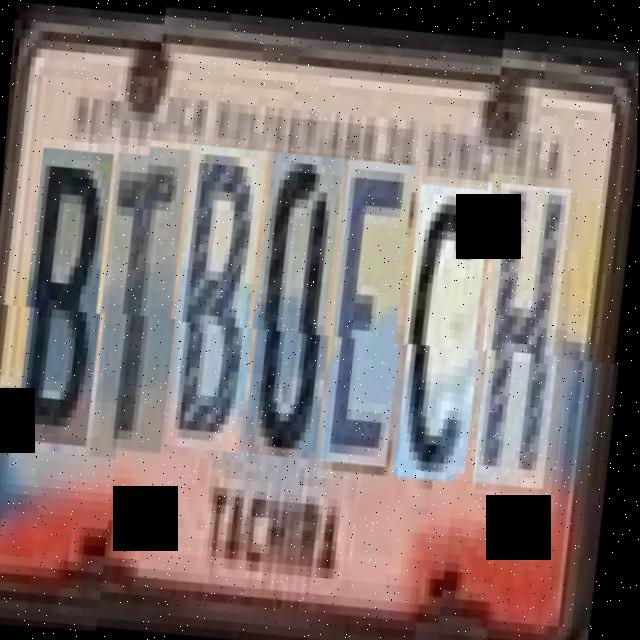0: (251, 149, 350, 458)
B: (171, 142, 276, 451), (22, 138, 122, 438)
C: (399, 180, 498, 480)
E: (325, 155, 421, 464)
H: (477, 186, 578, 495)
T: (95, 144, 197, 453)
